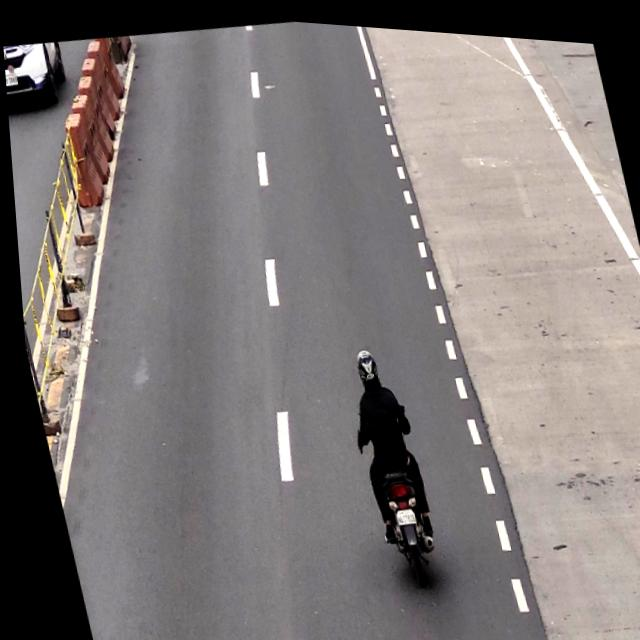License-Plate: (386, 500, 412, 521)
Motorcycle: (335, 341, 440, 587)
